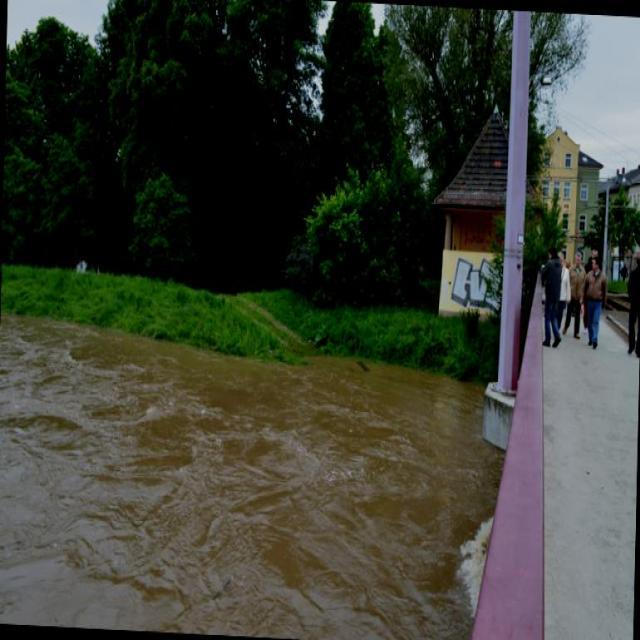flood: (0, 298, 490, 639)
